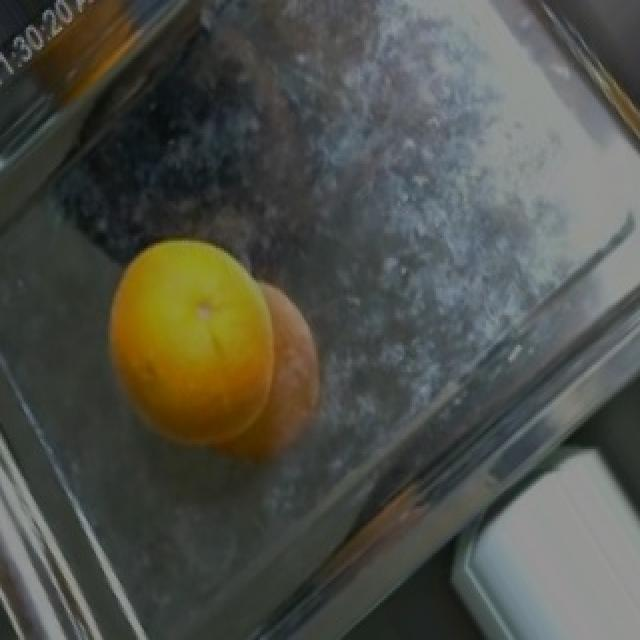Fruit: (82, 214, 332, 482)
